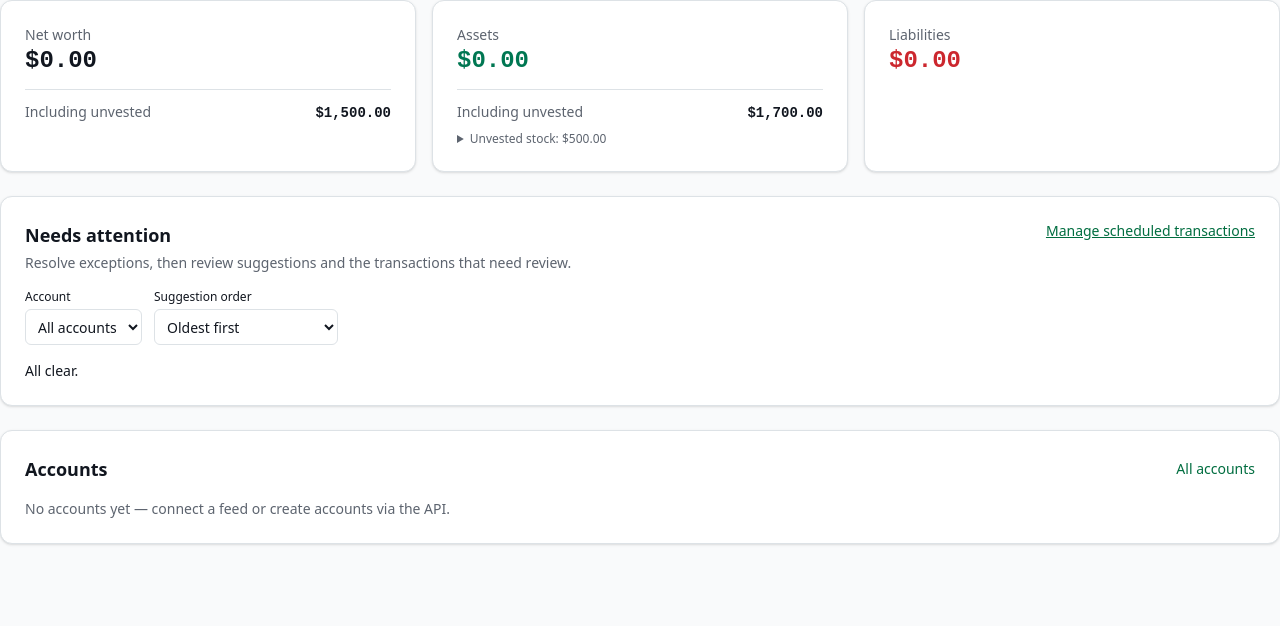
it: Dashboard future stock value › places potential totals inside the existing cards with expandable award detail
Expected: the text "$1,500.00" is shown, [315,103,391,123]
Expected: the text "$1,700.00" is shown, [747,103,823,123]
Click the heading "Unvested stock: $500.00".
click(538, 138)  # box [470,130,606,147]
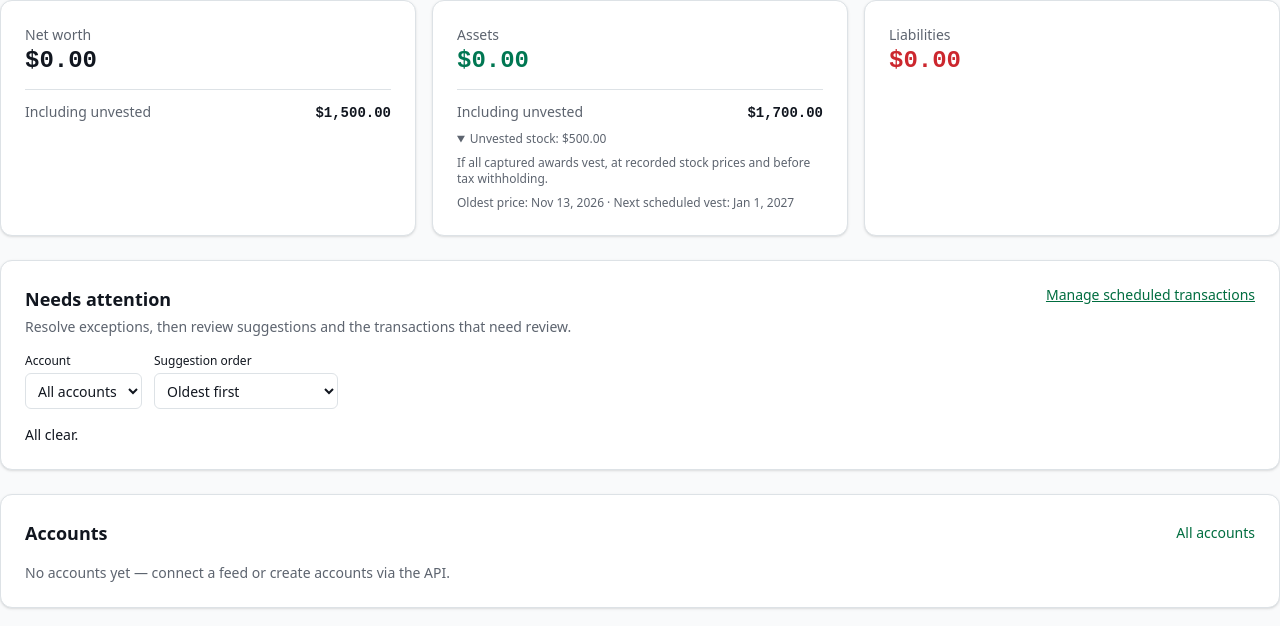
Expected: the text "Net worth" is shown, [25,25,91,44]
Expected: the text "before tax withholding" is shown, [457,154,810,187]
Expected: the text "Next scheduled vest: Jan 1, 2027" is shown, [604,194,794,211]
